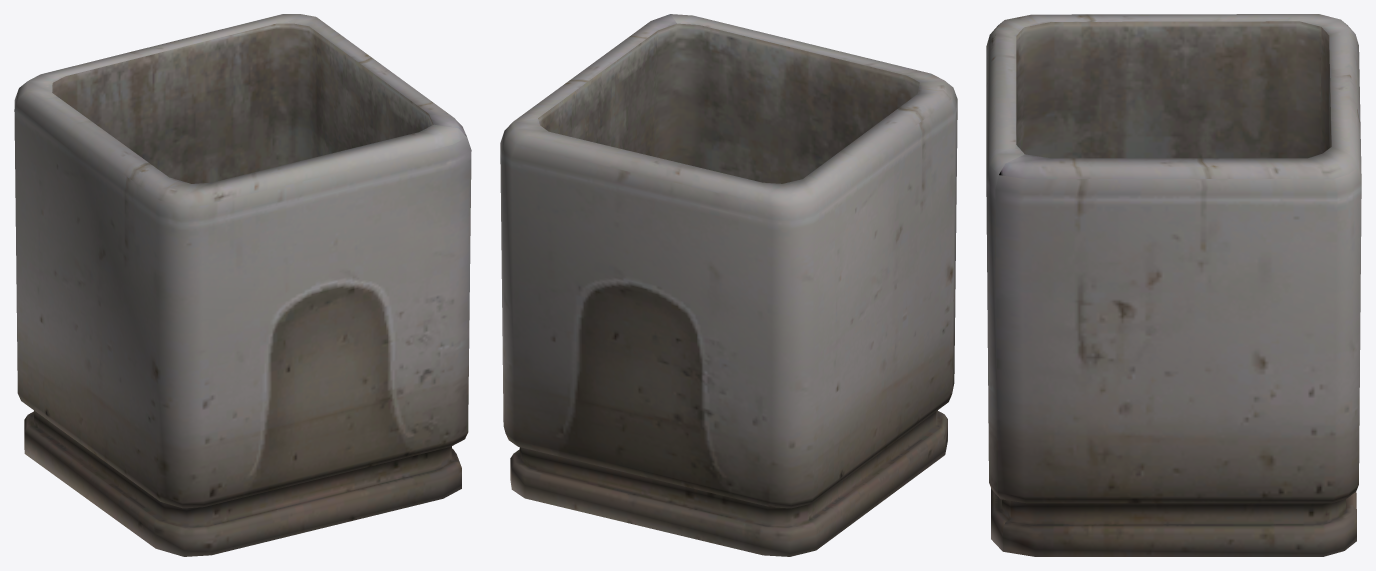
The model's file is holder_pen.DAE.
3 views of the same model, side by side, from view 1: azimuth 30°, elevation 25°; view 2: azimuth 150°, elevation 25°; view 3: azimuth 270°, elevation 25° (orthographic). The views are drawn at different scales.
Parts seen in each view (by area): view 1: holder_pen; view 2: holder_pen; view 3: holder_pen.
Part boxes in pixels (bbox=[...]): holder_pen: bbox=[14, 14, 471, 556]; holder_pen: bbox=[500, 14, 957, 556]; holder_pen: bbox=[986, 14, 1361, 556].
Size of the model in its own units: 0.1375 by 0.1532 by 0.1343.
